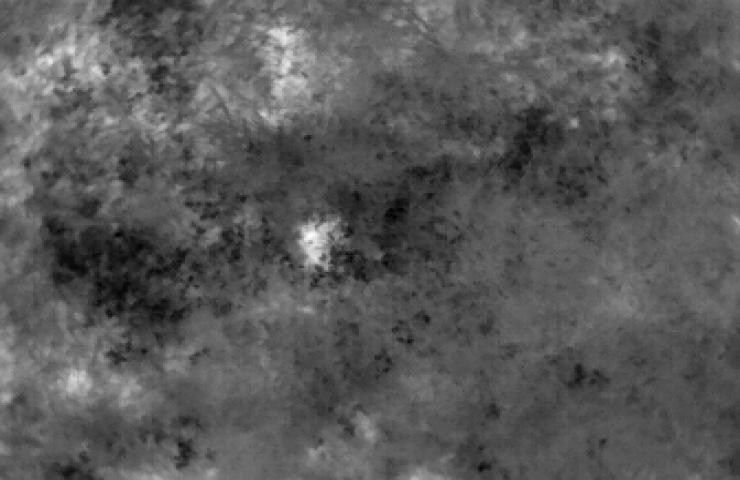landmines: (295, 217, 351, 274)
